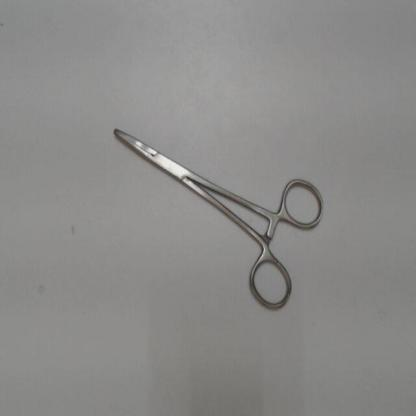Mayo Needle Holder: (104, 114, 332, 319)
